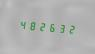eight: (27, 18, 36, 33)
four: (17, 17, 26, 32)
six: (48, 20, 57, 34)
three: (58, 20, 67, 35)
two: (68, 21, 77, 36), (38, 19, 47, 33)
